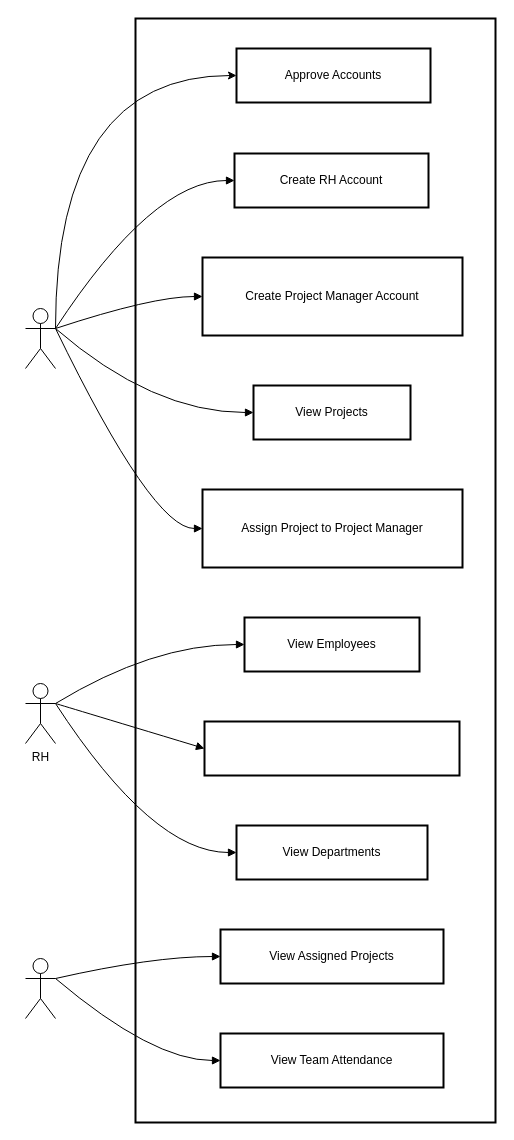
Some shapes in this 514 by 1140 pixel diagram are drawn without their labels. The centre of each missing label's shape, as x and y in pixels:
Admin: the point at 40,338
Project Manager: the point at 40,988
View Employee Attendance: the point at 331,748
